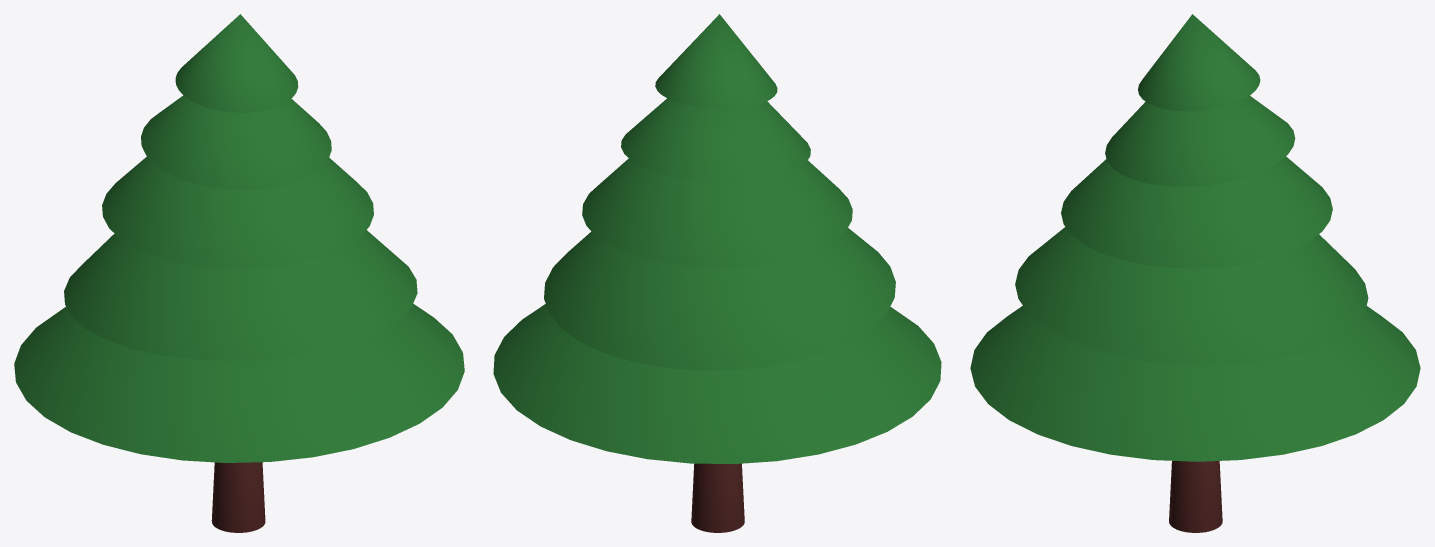
Rendered from SM_Tree01.fbx.
3 renders of one model, left to right at view 1: azimuth 30°, elevation 25°; view 2: azimuth 150°, elevation 25°; view 3: azimuth 270°, elevation 25°, orthographic.
Visible parts, largest first — view 1: SM_Tree01; view 2: SM_Tree01; view 3: SM_Tree01.
Part boxes in pixels (box(x1,y1,x2,y2)): SM_Tree01: box(14, 14, 464, 532); SM_Tree01: box(493, 14, 941, 532); SM_Tree01: box(970, 14, 1420, 532).
Bounding box in the file's own units: 503 × 626 × 503.
